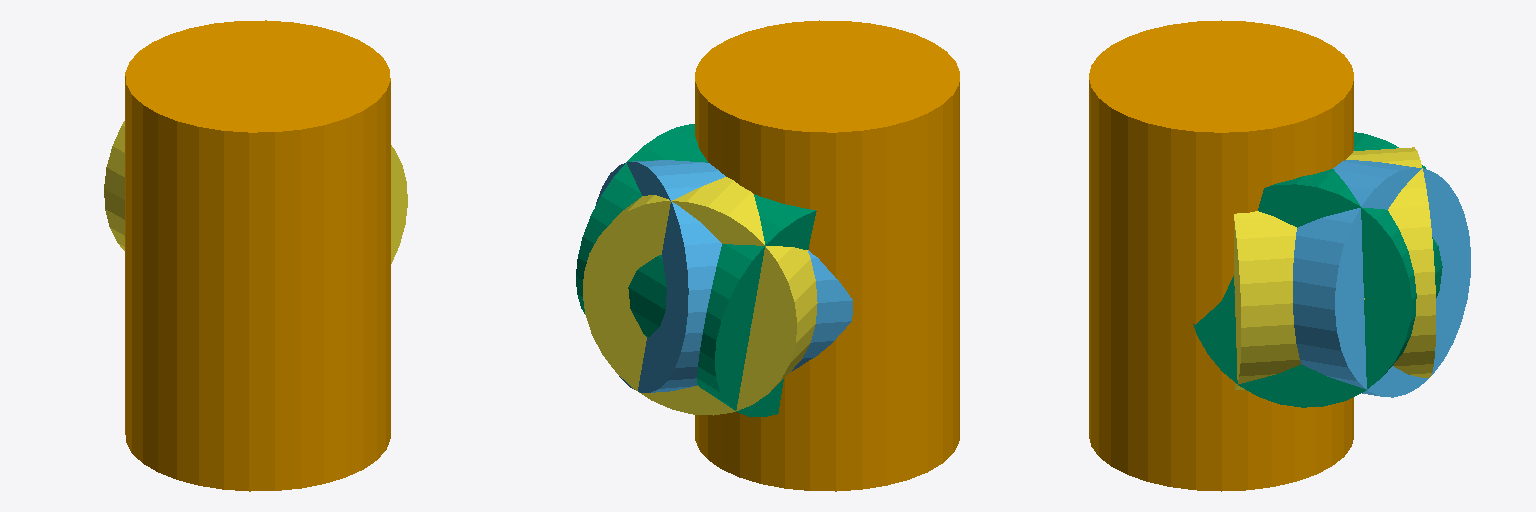
URDF robot description (pepe):
<?xml version="1.0"?><robot name="pepe">
	<link name="0">
		<visual>
			<geometry>
				<cylinder length="2.9780468539074367" radius="0.9999"/>
			</geometry>
		</visual>
		<collision>
			<geometry>
				<cylinder length="2.9780468539074367" radius="0.9999"/>
			</geometry>
		</collision>
		<inertial>
			<mass value="9.353939049816244"/>
			<inertia ixx="0.03" iyy="0.03" izz="0.03" ixy="0" ixz="0" iyx="0"/>
		</inertial>
	</link>
	<link name="11">
		<visual>
			<geometry>
				<cylinder length="1.4784806233442744" radius="0.8743447457285577"/>
			</geometry>
		</visual>
		<collision>
			<geometry>
				<cylinder length="1.4784806233442744" radius="0.8743447457285577"/>
			</geometry>
		</collision>
		<inertial>
			<mass value="3.550838490425051"/>
			<inertia ixx="0.03" iyy="0.03" izz="0.03" ixy="0" ixz="0" iyx="0"/>
		</inertial>
	</link>
	<link name="12">
		<visual>
			<geometry>
				<cylinder length="1.4784806233442744" radius="0.8743447457285577"/>
			</geometry>
		</visual>
		<collision>
			<geometry>
				<cylinder length="1.4784806233442744" radius="0.8743447457285577"/>
			</geometry>
		</collision>
		<inertial>
			<mass value="3.550838490425051"/>
			<inertia ixx="0.03" iyy="0.03" izz="0.03" ixy="0" ixz="0" iyx="0"/>
		</inertial>
	</link>
	<link name="13">
		<visual>
			<geometry>
				<cylinder length="1.4784806233442744" radius="0.8743447457285577"/>
			</geometry>
		</visual>
		<collision>
			<geometry>
				<cylinder length="1.4784806233442744" radius="0.8743447457285577"/>
			</geometry>
		</collision>
		<inertial>
			<mass value="3.550838490425051"/>
			<inertia ixx="0.03" iyy="0.03" izz="0.03" ixy="0" ixz="0" iyx="0"/>
		</inertial>
	</link>
	<joint name="11_to_0" type="revolute">
		<parent link="0"/>
		<child link="11"/>
		<axis xyz="1 0 0"/>
		<limit effort="1" upper="-3.1415" lower="3.1415" velocity="1"/>
		<origin rpy="8.669224950284402 1.7331183500031386 3.3320973687835114" xyz="0.4261093969743759 0.767508247320206 0.08860544743694432"/>
	</joint>
	<joint name="12_to_0" type="revolute">
		<parent link="0"/>
		<child link="12"/>
		<axis xyz="1 0 0"/>
		<limit effort="1" upper="-3.1415" lower="3.1415" velocity="1"/>
		<origin rpy="13.003837425426603 1.7331183500031386 3.3320973687835114" xyz="0.4261093969743759 0.767508247320206 0.08860544743694432"/>
	</joint>
	<joint name="13_to_0" type="revolute">
		<parent link="0"/>
		<child link="13"/>
		<axis xyz="1 0 0"/>
		<limit effort="1" upper="-3.1415" lower="3.1415" velocity="1"/>
		<origin rpy="17.338449900568804 1.7331183500031386 3.3320973687835114" xyz="0.4261093969743759 0.767508247320206 0.08860544743694432"/>
	</joint>
</robot>

--- Render facts (derived) ---
3 views of the same robot in one strip: view 1: azimuth 30°, elevation 25°; view 2: azimuth 150°, elevation 25°; view 3: azimuth 270°, elevation 25° (orthographic).
Robot: pepe — 4 links, 3 joints (3 revolute); root link 0; default pose: all joints at 0.
Links seen in each view (by area): view 1: 0, 13; view 2: 0, 13, 12, 11; view 3: 0, 11, 12, 13.
Link boxes in pixels (x1,y1,x2,y2): 0: (125,20,390,491); 13: (104,121,407,263); 0: (695,20,959,491); 13: (583,177,817,415); 12: (576,124,816,416); 11: (595,160,852,392); 0: (1089,20,1353,491); 11: (1234,160,1470,397); 12: (1193,132,1442,407); 13: (1234,147,1435,389).
Size in the robot's own frame: 2.57 by 2.88 by 2.98 metres.
Geometry: primitives only (box / cylinder / sphere), no mesh files.
